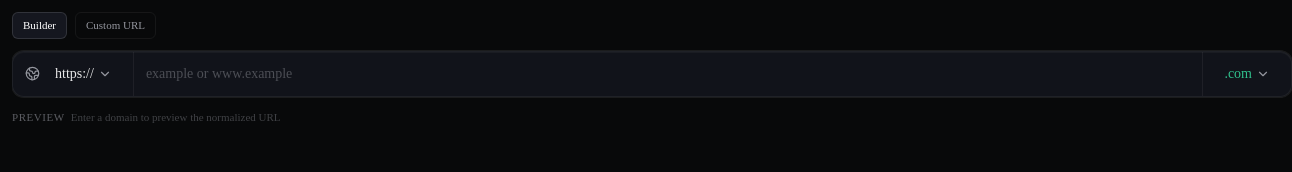
Test: SmartUrlInput › absorbs a pasted full URL in builder mode
The width and height of the screenshot is (1292, 172).
Type "https://shop.example.com/cart?x=1" into the dropdown with test id "scan-url-input" at (668, 74), box [146,64,1190,84]
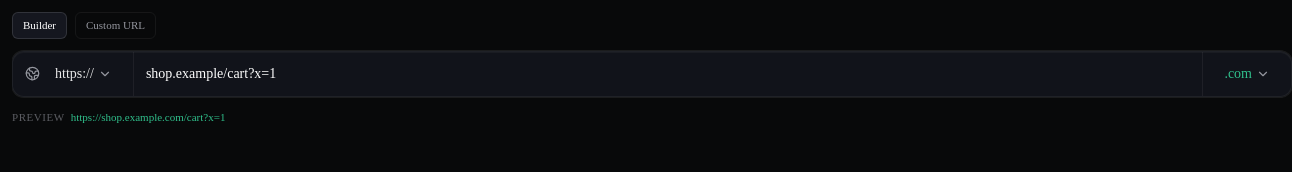
Result: the text "https://shop.example.com/cart?x=1" is shown at [71,110,225,122]
